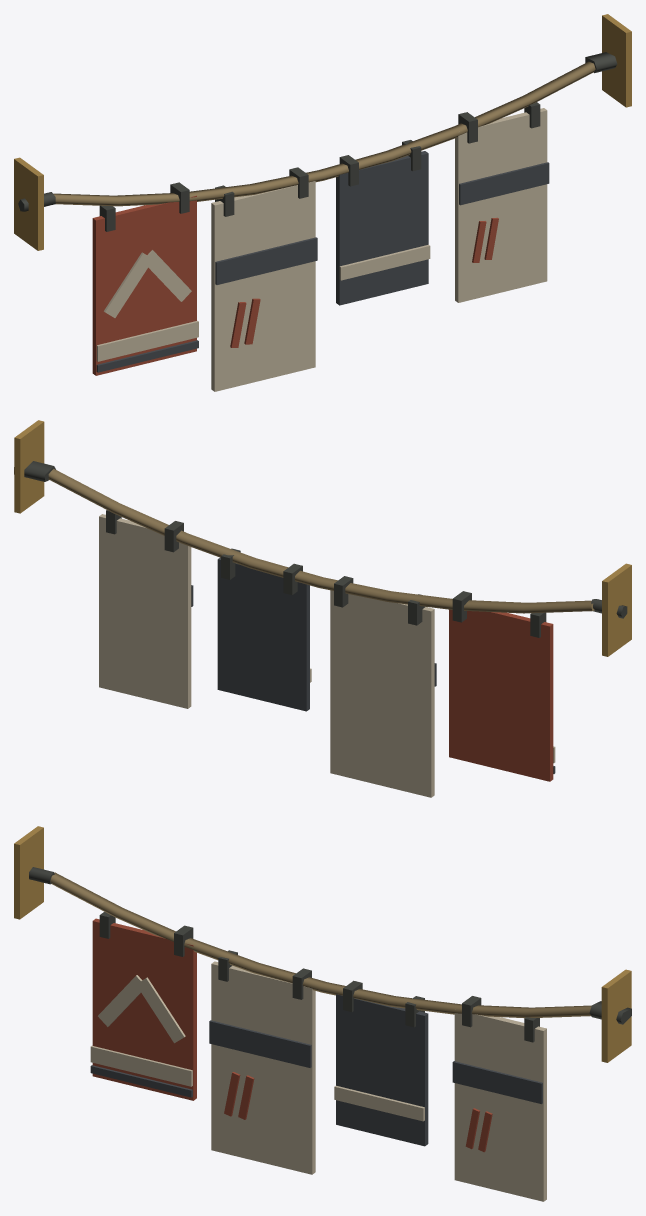
The model's file is laundry_goods.glb.
The picture shows the model from 3 angles, top to bottom: view 1: azimuth 30°, elevation 25°; view 2: azimuth 150°, elevation 25°; view 3: azimuth 330°, elevation 25°; orthographic projection.
Visible parts, largest first — view 1: laundry_goods; view 2: laundry_goods; view 3: laundry_goods.
Boxes of the visible parts, left/top/right/bottom form: laundry_goods: left=14, top=14, right=631, bottom=391; laundry_goods: left=14, top=420, right=631, bottom=797; laundry_goods: left=14, top=826, right=631, bottom=1201.
Bounding box in the file's own units: 2.03 × 0.8644 × 0.14.
